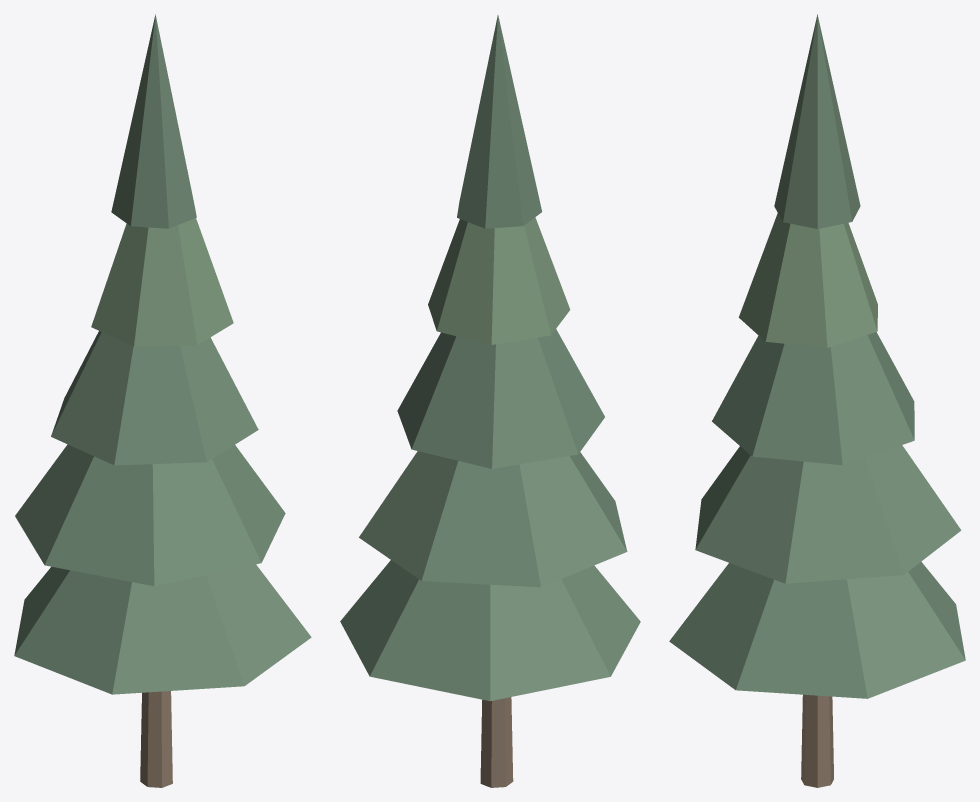
File: node_tree_forest_1.glb
3 views of the same model, side by side, from view 1: azimuth 30°, elevation 25°; view 2: azimuth 150°, elevation 25°; view 3: azimuth 270°, elevation 25° (orthographic).
Parts seen in each view (by area): view 1: node_tree_forest_1; view 2: node_tree_forest_1; view 3: node_tree_forest_1.
Boxes of the visible parts, x1,y1,x2,y2 form: node_tree_forest_1: (14, 14, 311, 787); node_tree_forest_1: (340, 15, 640, 787); node_tree_forest_1: (669, 14, 965, 787).
Size of the model in its own units: 3.89 by 10.98 by 3.85.
